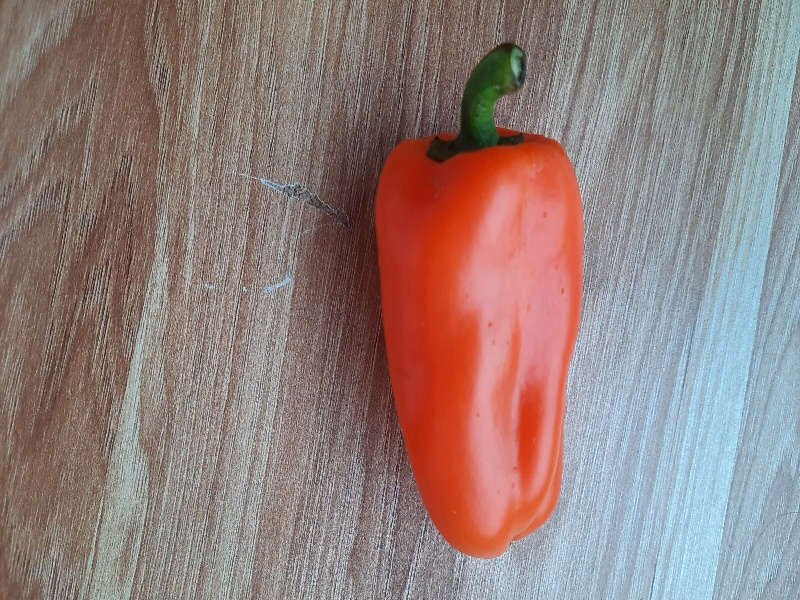vege: (370, 40, 604, 565)
